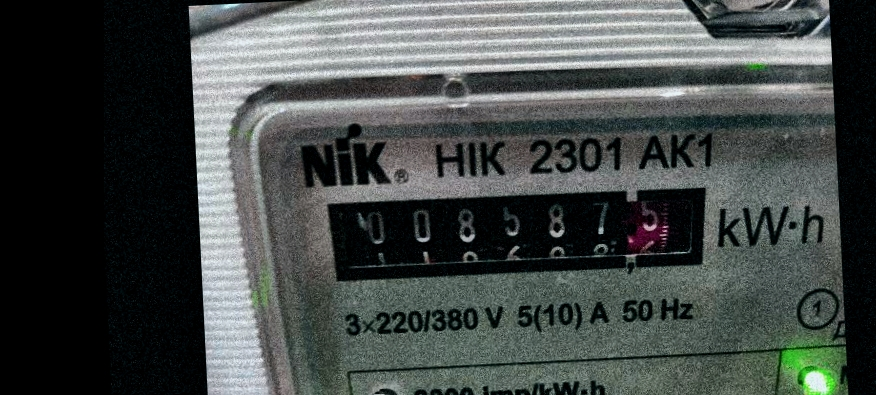0: (409, 203, 435, 244)
1: (363, 206, 389, 248)
5: (638, 193, 664, 234), (500, 200, 525, 239)
7: (589, 197, 614, 239)
8: (453, 203, 480, 245), (545, 199, 568, 241)
screen: (307, 164, 730, 303)
